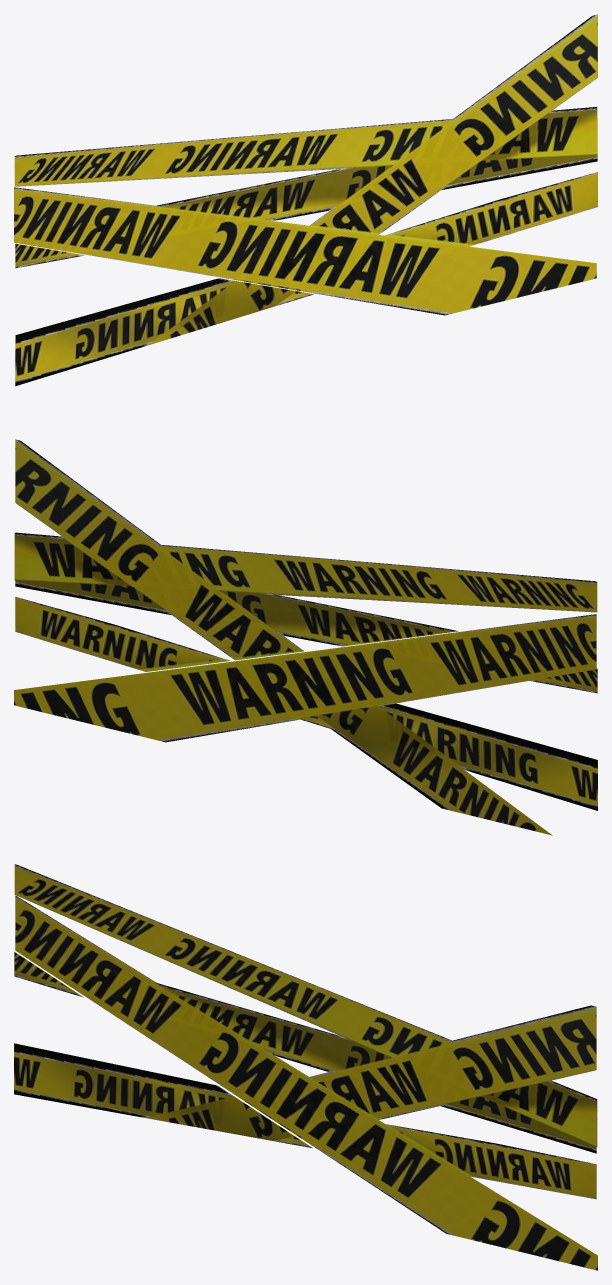
The model's file is warning_tape_model.glb.
The picture shows the model from 3 angles, top to bottom: view 1: azimuth 30°, elevation 25°; view 2: azimuth 150°, elevation 25°; view 3: azimuth 330°, elevation 25°; orthographic projection.
Parts seen in each view (by area): view 1: Object_2; view 2: Object_2; view 3: Object_2.
Part boxes in pixels (x1,y1,x2,y2): Object_2: [14, 14, 597, 386]; Object_2: [14, 439, 597, 835]; Object_2: [14, 864, 597, 1270].
Size of the model in its own units: 4.6 by 2 by 0.0195.
1 material, 1 textured.
